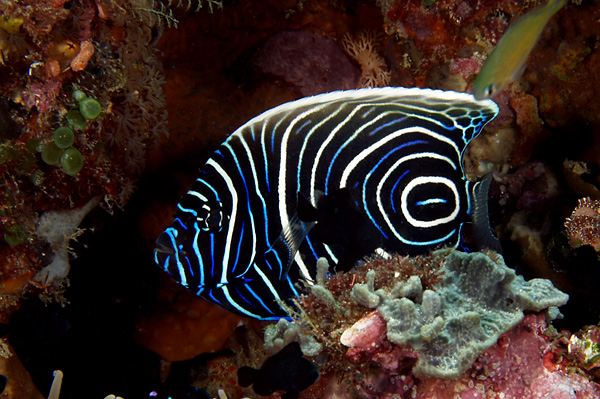Pomacanthus_imperator: (150, 71, 506, 342)
